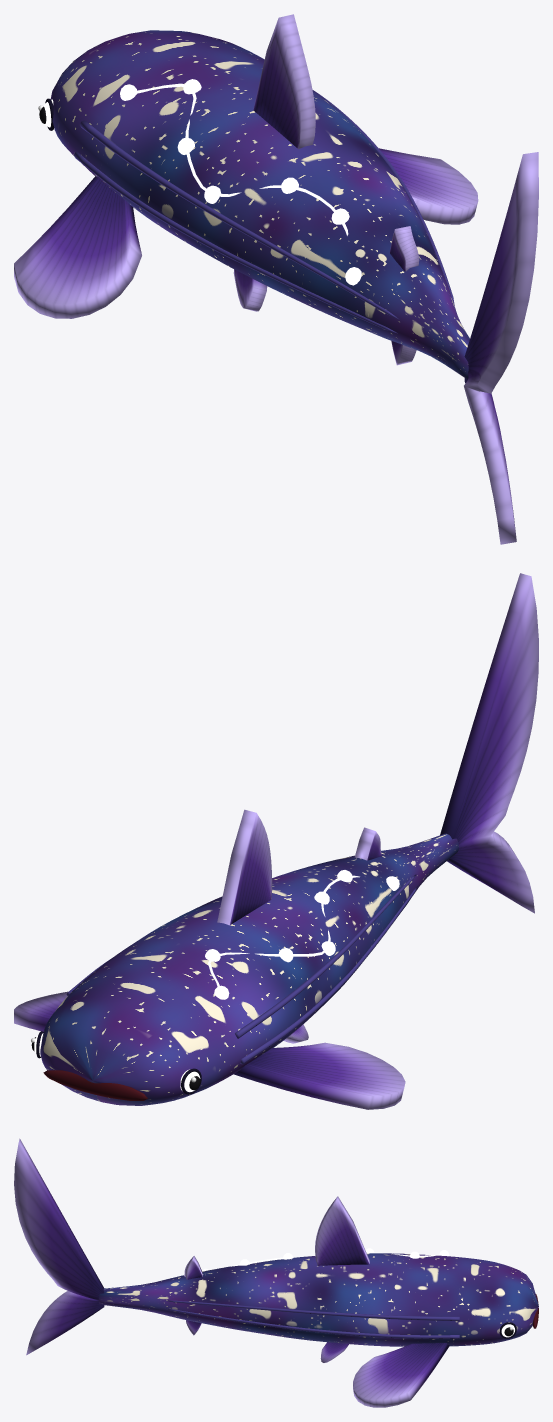
The model's file is StarfallWhaleShark.fbx.
3 renders of one model, top to bottom at view 1: azimuth 30°, elevation 25°; view 2: azimuth 150°, elevation 25°; view 3: azimuth 270°, elevation 25°, orthographic. The views are drawn at different scales.
Parts seen in each view (by area): view 1: StarfallWhaleShark, StarfallWhaleShark_Glow; view 2: StarfallWhaleShark, StarfallWhaleShark_Glow; view 3: StarfallWhaleShark, StarfallWhaleShark_Glow.
Boxes of the visible parts, left/top/right/bottom form: StarfallWhaleShark: left=14, top=14, right=538, bottom=544; StarfallWhaleShark_Glow: left=43, top=79, right=361, bottom=285; StarfallWhaleShark: left=14, top=573, right=538, bottom=1109; StarfallWhaleShark_Glow: left=34, top=870, right=399, bottom=1092; StarfallWhaleShark: left=14, top=1138, right=538, bottom=1407; StarfallWhaleShark_Glow: left=202, top=1248, right=514, bottom=1337.
Size of the model in its own units: 440 by 372 by 809.
Materials: 2 (1 with a texture image).
